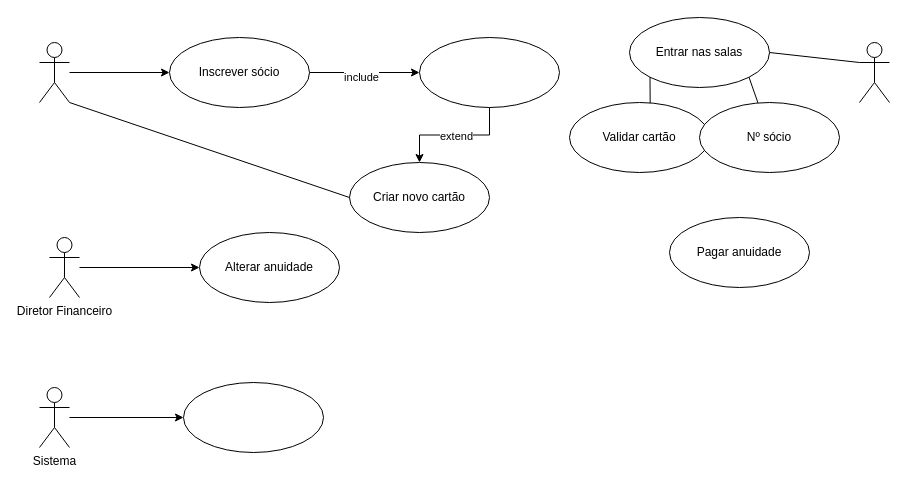
This 907x486 diagram has some shape labels left out. The shapes that lost their labels are listed below. From the top down, each one's centre as x and y in pixels, then its label:
At pixel 54 72: "Funcionário".
At pixel 489 72: "Criar cartão de sócio".
At pixel 874 72: "Sócio".
At pixel 253 417: "Verificar datas".
